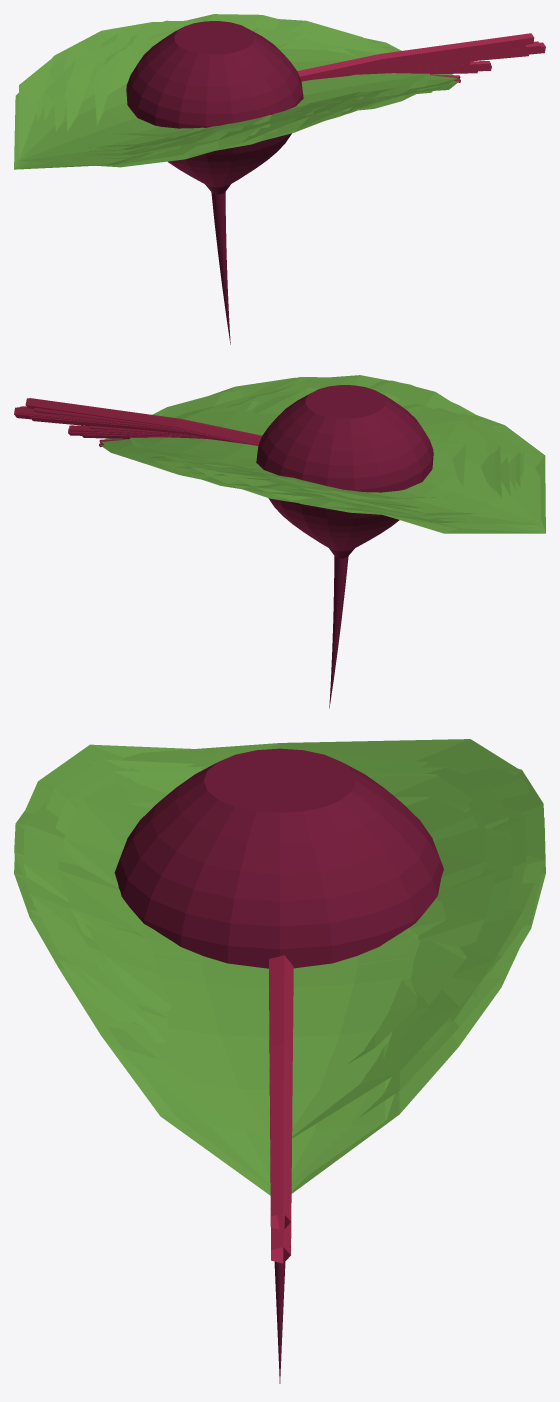
File: beetroot_harvest_v18.articulated.glb
3 renders of one model, top to bottom at view 1: azimuth 30°, elevation 25°; view 2: azimuth 150°, elevation 25°; view 3: azimuth 270°, elevation 25°, orthographic. The views are drawn at different scales.
Parts seen in each view (by area): view 1: root, leaf00_link2, leaf06_link2, leaf01_link2, leaf04_link2, leaf00_link0, leaf08_link2, leaf05_link2, leaf01_link0, leaf10_link2, leaf02_link2, leaf09_link2 (+3 smaller); view 2: root, leaf00_link2, leaf01_link2, leaf02_link2, leaf08_link2, leaf03_link2, leaf06_link2, leaf00_link0, leaf10_link2, leaf07_link2, leaf09_link2, leaf05_link2 (+3 smaller); view 3: root, leaf00_link2, leaf02_link2, leaf01_link2, leaf03_link2, leaf06_link2, leaf04_link2, leaf08_link2, leaf00_link0, leaf10_link2, leaf07_link2, leaf05_link2 (+1 smaller).
Part boxes in pixels (left/top/right/bottom): root: left=126, top=21, right=303, bottom=344; leaf00_link2: left=19, top=19, right=430, bottom=167; leaf06_link2: left=93, top=38, right=372, bottom=137; leaf01_link2: left=14, top=22, right=460, bottom=169; leaf04_link2: left=66, top=28, right=364, bottom=144; leaf00_link0: left=297, top=33, right=534, bottom=77; leaf08_link2: left=53, top=14, right=415, bottom=150; leaf05_link2: left=44, top=40, right=396, bottom=154; leaf01_link0: left=300, top=42, right=545, bottom=81; leaf10_link2: left=36, top=42, right=432, bottom=159; leaf02_link2: left=88, top=20, right=460, bottom=147; leaf09_link2: left=86, top=20, right=443, bottom=156; root: left=256, top=385, right=433, bottom=708; leaf00_link2: left=130, top=375, right=540, bottom=524; leaf01_link2: left=99, top=377, right=545, bottom=533; leaf02_link2: left=99, top=391, right=501, bottom=509; leaf08_link2: left=148, top=380, right=478, bottom=516; leaf03_link2: left=217, top=400, right=495, bottom=491; leaf06_link2: left=166, top=391, right=466, bottom=498; leaf00_link0: left=25, top=398, right=261, bottom=444; leaf10_link2: left=125, top=377, right=524, bottom=521; leaf07_link2: left=213, top=401, right=510, bottom=511; leaf09_link2: left=192, top=391, right=520, bottom=524; leaf05_link2: left=151, top=387, right=515, bottom=519; root: left=114, top=748, right=443, bottom=1383; leaf00_link2: left=14, top=739, right=529, bottom=1140; leaf02_link2: left=55, top=771, right=513, bottom=1187; leaf01_link2: left=15, top=744, right=544, bottom=1195; leaf03_link2: left=63, top=778, right=497, bottom=1037; leaf06_link2: left=84, top=797, right=486, bottom=1063; leaf04_link2: left=58, top=775, right=474, bottom=1044; leaf08_link2: left=23, top=773, right=534, bottom=1051; leaf00_link0: left=269, top=955, right=293, bottom=1229; leaf10_link2: left=14, top=761, right=545, bottom=1117; leaf07_link2: left=91, top=768, right=485, bottom=1057; leaf05_link2: left=69, top=766, right=508, bottom=1075.
Size of the model in its own units: 0.2384 by 0.1345 by 0.1095.
1 material, 1 textured.
